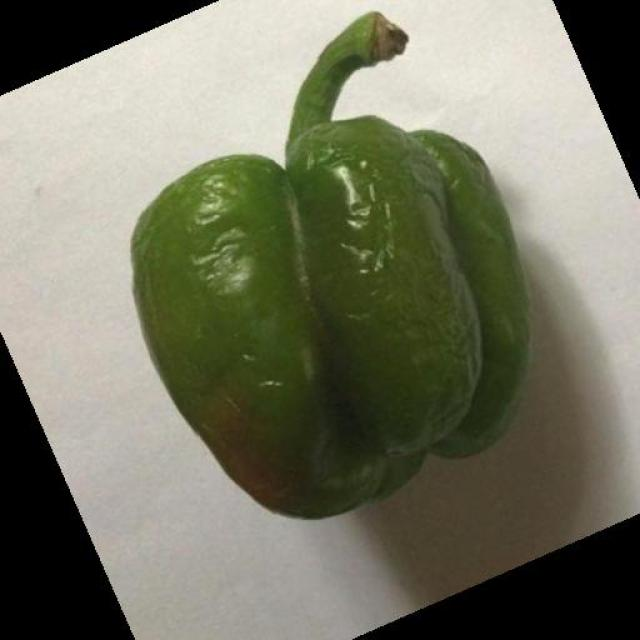Stale_Capsicum: (129, 45, 557, 525)
